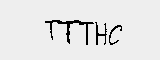Н: (93, 22, 107, 47)
С: (108, 22, 122, 46)
Т: (58, 19, 79, 44), (80, 20, 95, 47), (44, 18, 59, 41)
